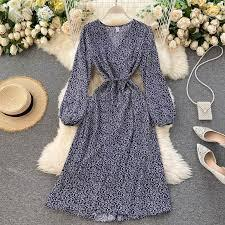dress: (61, 21, 177, 215)
